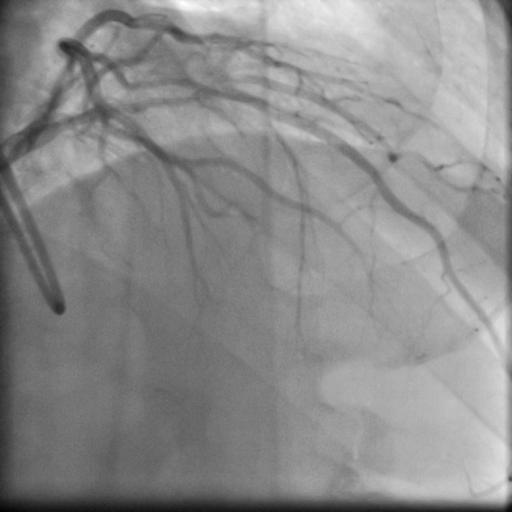Stenosis: (135, 90, 199, 108)
